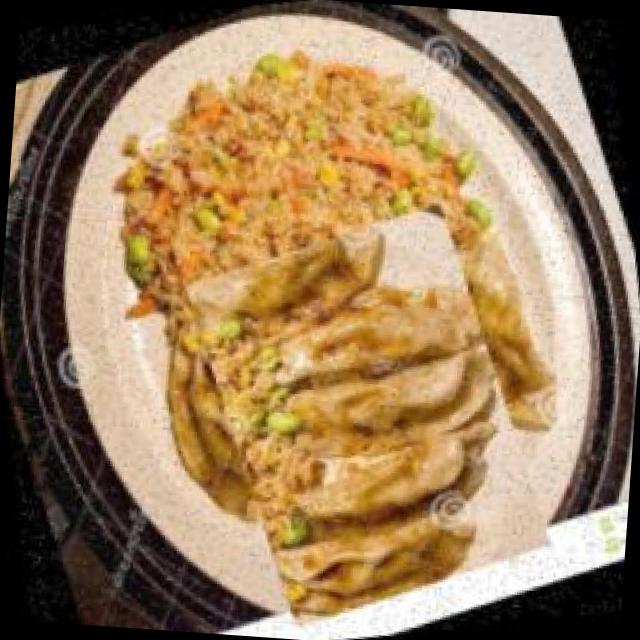fried_dumplings: (136, 183, 598, 640)
